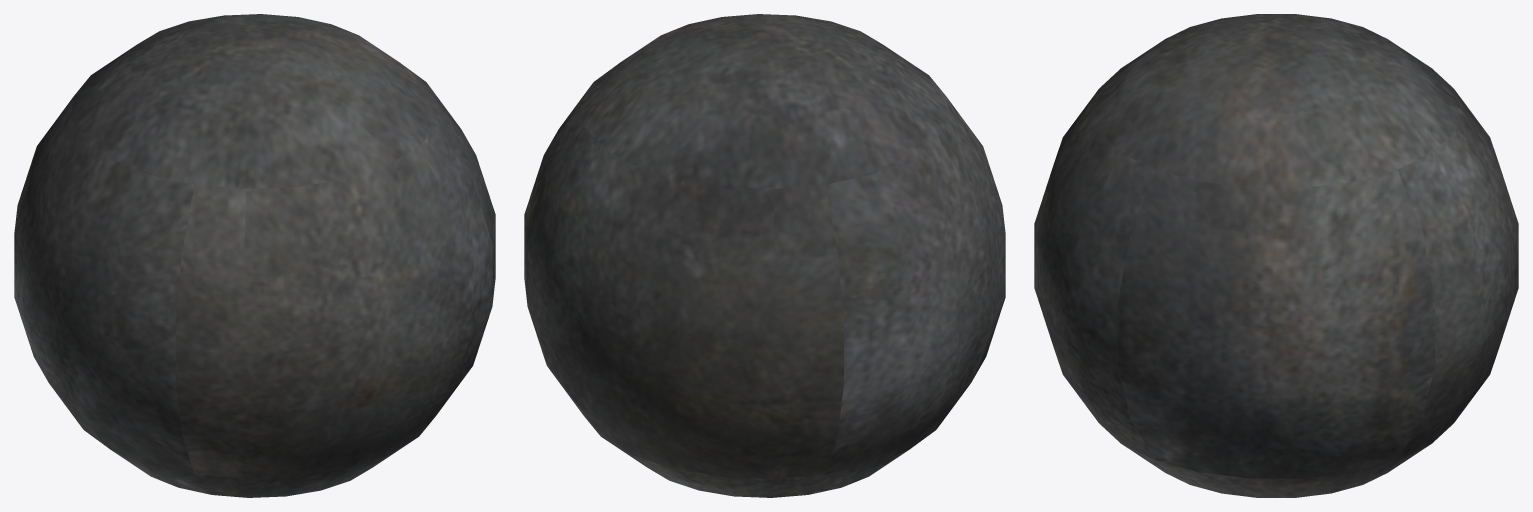
The model's file is Cannonball.FBX.
The picture shows the model from 3 angles, left to right: view 1: azimuth 30°, elevation 25°; view 2: azimuth 150°, elevation 25°; view 3: azimuth 270°, elevation 25°; orthographic projection.
Parts seen in each view (by area): view 1: Sphere001; view 2: Sphere001; view 3: Sphere001.
Part boxes in pixels (x1=…): Sphere001: x1=14, y1=14, x2=495, y2=497; Sphere001: x1=524, y1=14, x2=1005, y2=497; Sphere001: x1=1034, y1=14, x2=1518, y2=497.
Size of the model in its own units: 32.03 by 32.69 by 32.36.
Materials: 1 (1 with a texture image).
